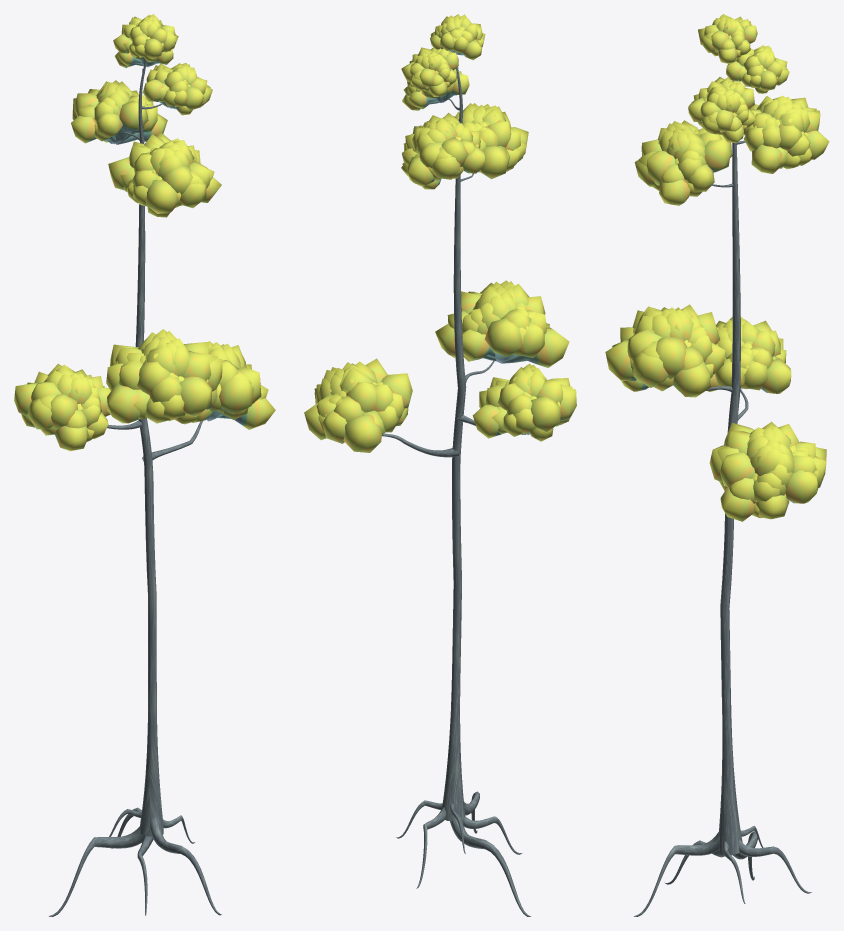
File: TallTree.fbx
The picture shows the model from 3 angles, left to right: view 1: azimuth 30°, elevation 25°; view 2: azimuth 150°, elevation 25°; view 3: azimuth 270°, elevation 25°; orthographic projection. The views are drawn at different scales.
Visible parts, largest first — view 1: BezierCurve.016; view 2: BezierCurve.016; view 3: BezierCurve.016.
Boxes of the visible parts, x1,y1,x2,y2 form: BezierCurve.016: (14,14,275,916); BezierCurve.016: (304,14,576,916); BezierCurve.016: (605,14,829,916).
Size of the model in its own units: 13.77 by 46.84 by 10.52.
